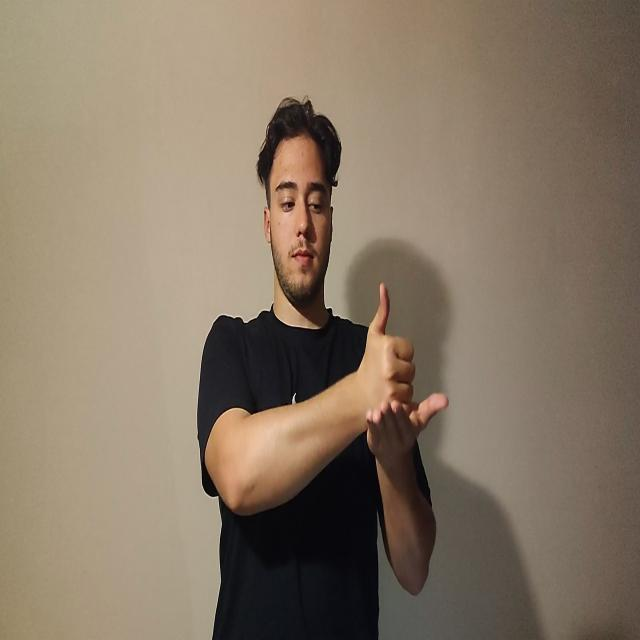help: (357, 283, 448, 454)
